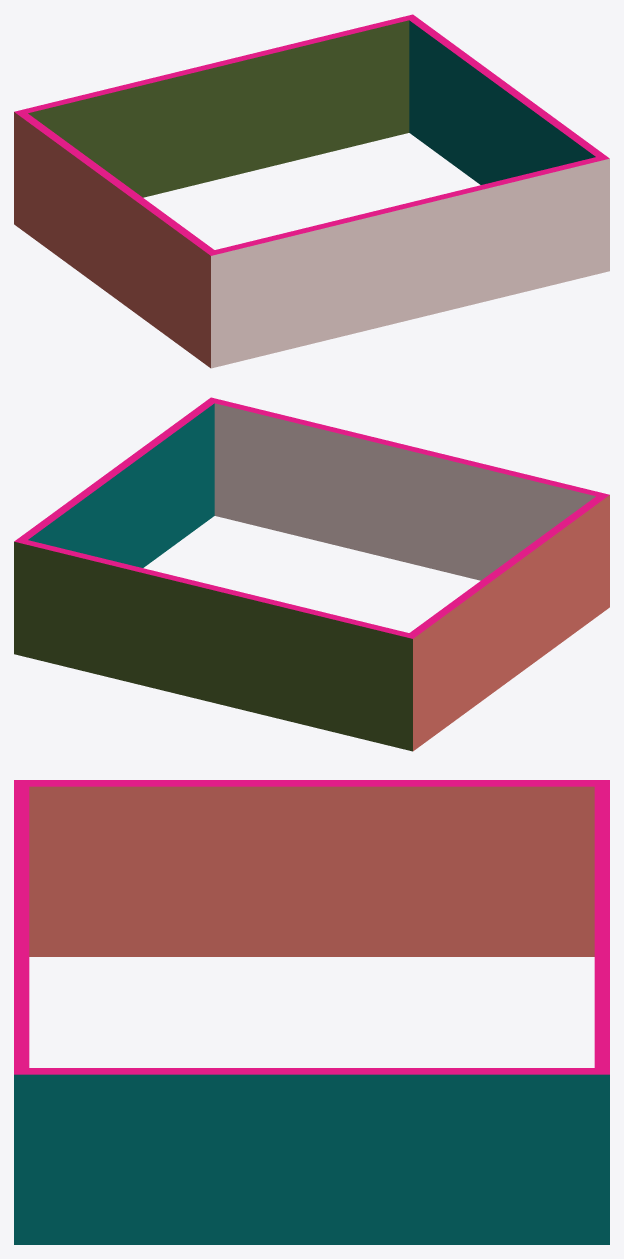
Rendered from 3dskp.obj.
3 views of the same model, one above another, from view 1: azimuth 30°, elevation 25°; view 2: azimuth 150°, elevation 25°; view 3: azimuth 270°, elevation 25° (orthographic). The views are drawn at different scales.
Parts seen in each view (by area): view 1: Mesh1 Model; view 2: Mesh1 Model; view 3: Mesh1 Model.
Part boxes in pixels (bbox=[...]): Mesh1 Model: bbox=[14, 14, 609, 368]; Mesh1 Model: bbox=[14, 397, 609, 751]; Mesh1 Model: bbox=[14, 780, 609, 1244].
Bounding box in the file's own units: 456 × 123 × 390.
